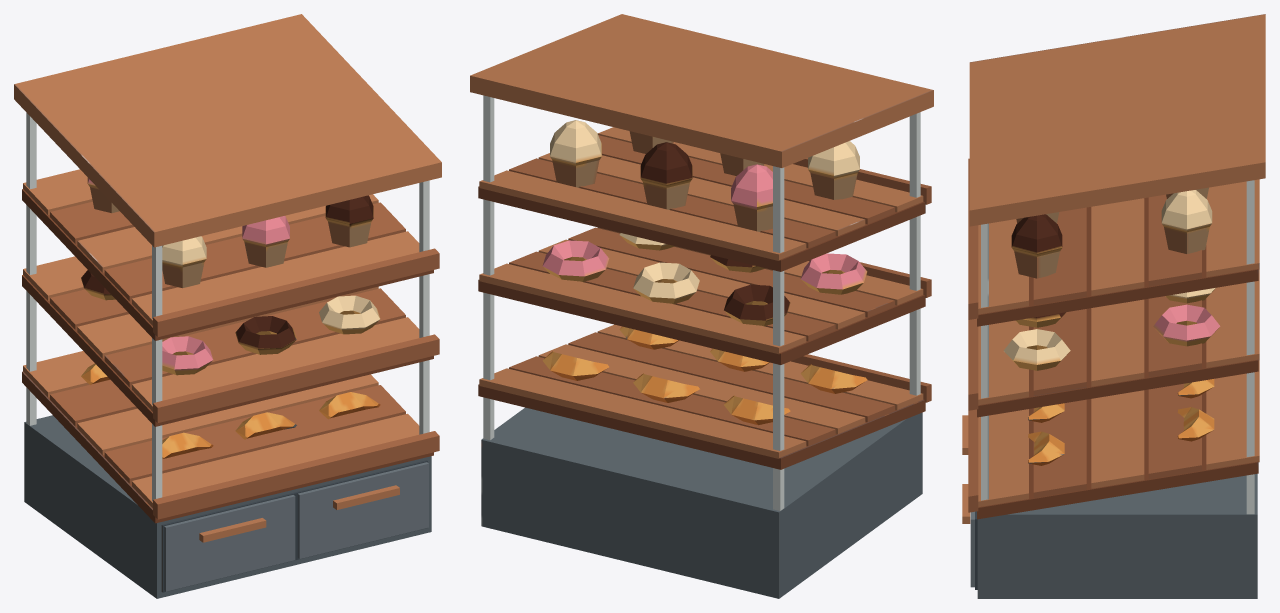
The model's file is PastryCase.fbx.
The picture shows the model from 3 angles, left to right: view 1: azimuth 30°, elevation 25°; view 2: azimuth 150°, elevation 25°; view 3: azimuth 270°, elevation 25°; orthographic projection. The views are drawn at different scales.
Visible parts, largest first — view 1: PastryCase_Body; view 2: PastryCase_Body; view 3: PastryCase_Body.
Boxes of the visible parts, left/top/right/bottom form: PastryCase_Body: left=14, top=14, right=441, bottom=598; PastryCase_Body: left=470, top=14, right=933, bottom=598; PastryCase_Body: left=962, top=14, right=1265, bottom=598.
Size of what is drawn, in the model's own units: 0.396 by 0.5481 by 0.3425.
1 material, 1 textured.
